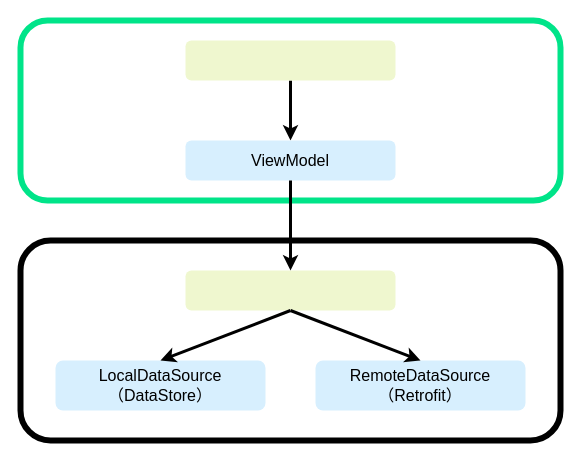
Some shapes in this 580 by 460 pixel diagram are drawn without their labels. Each missing label, with the box of its shape:
Activity、Fragment: (185, 40, 395, 80)
Repository: (185, 270, 395, 310)
